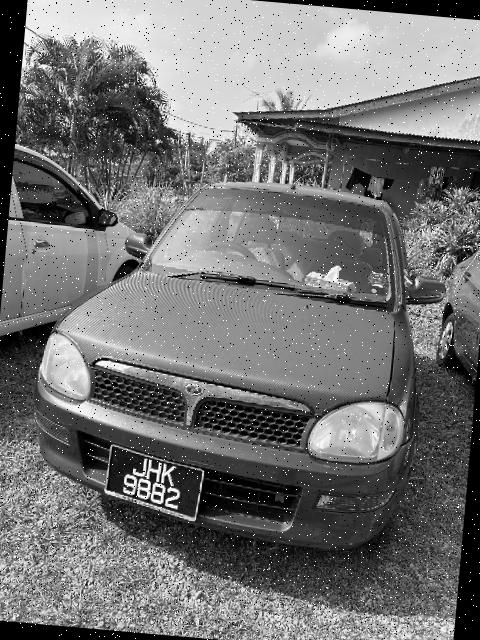License_Plate: (98, 445, 211, 526)
car: (23, 163, 460, 565)
